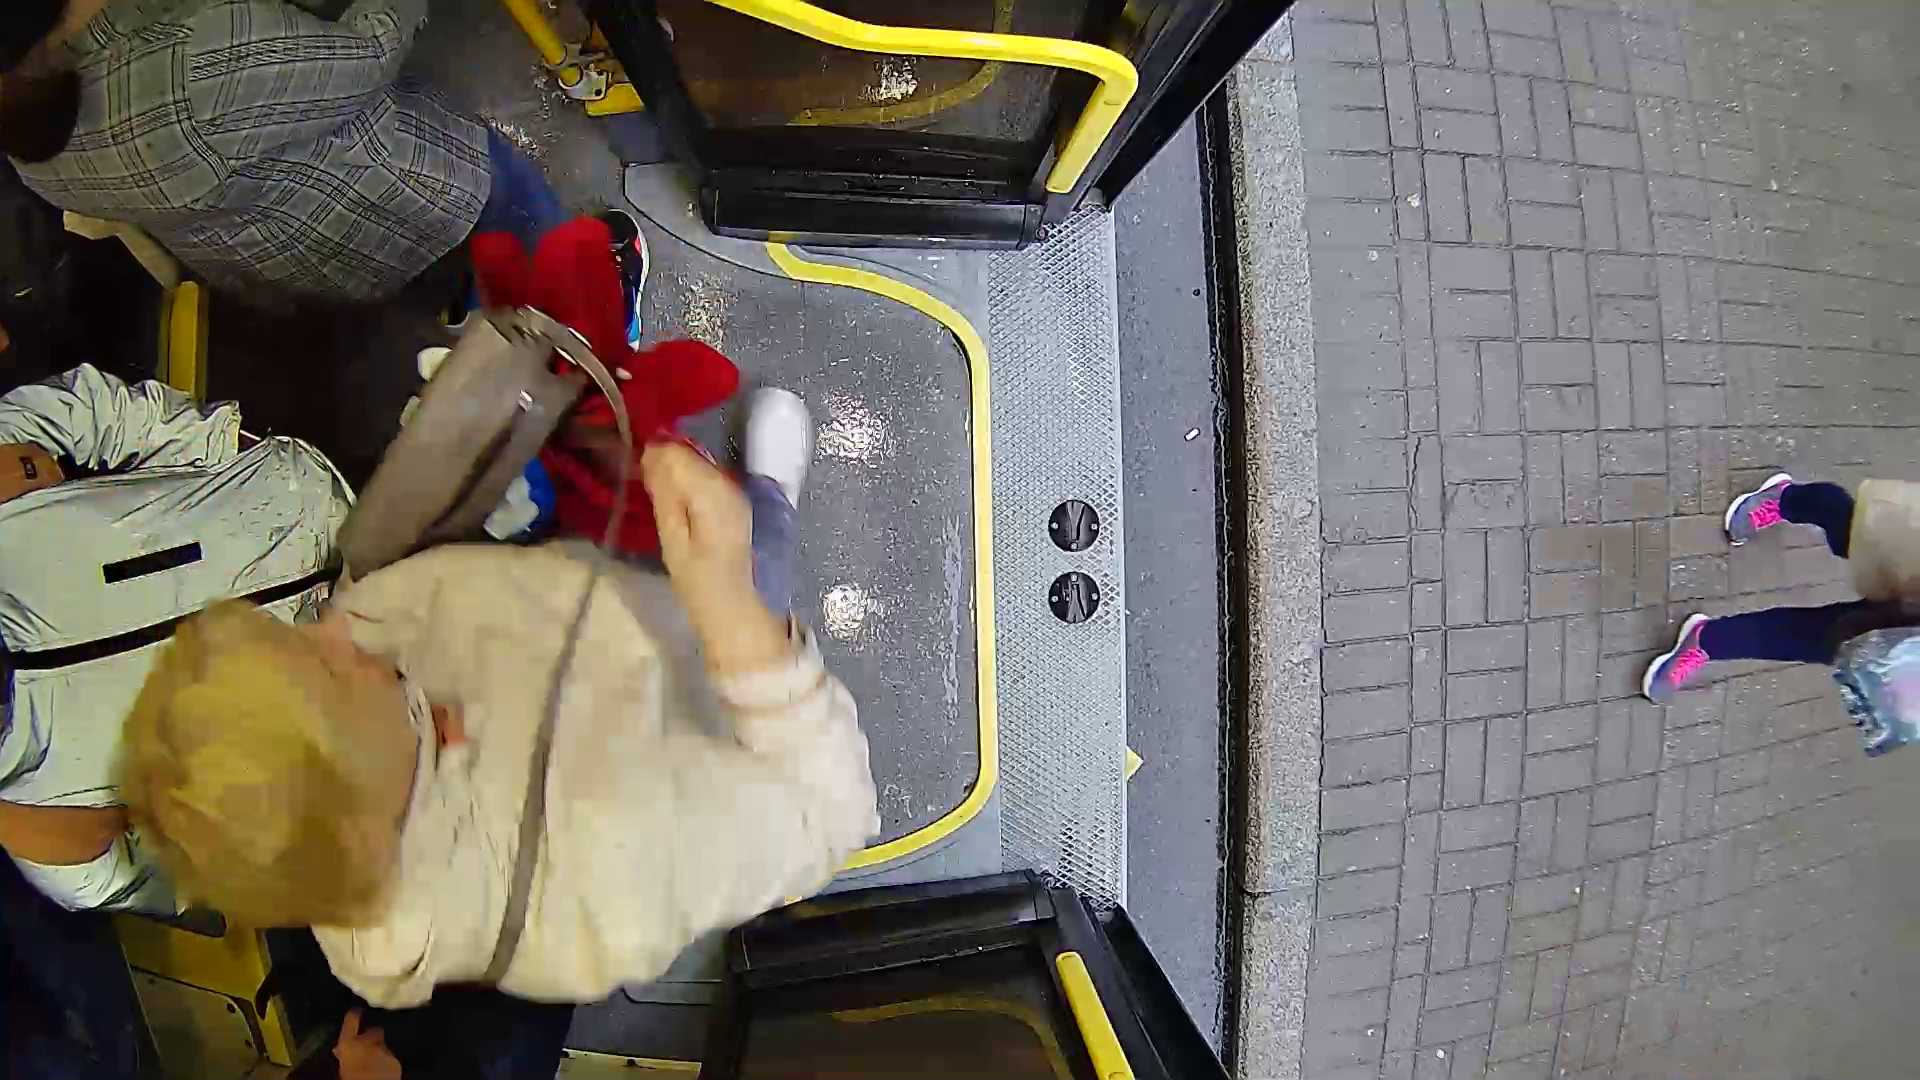person: (165, 350, 995, 946)
